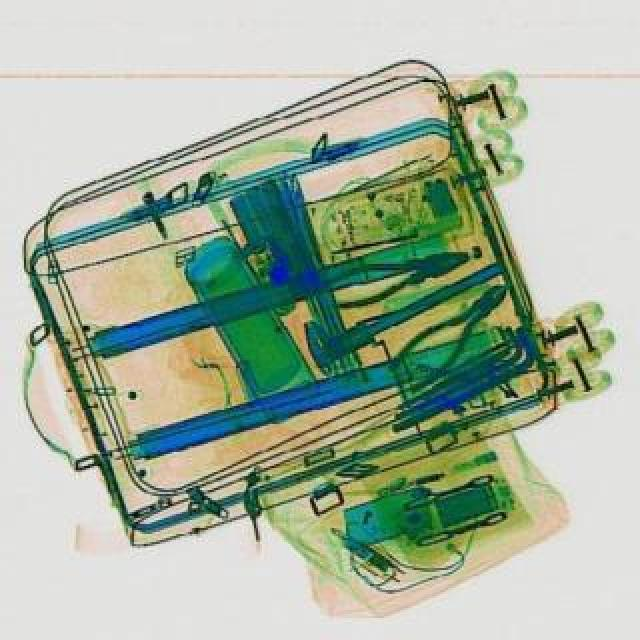wrench: (380, 266, 524, 394), (314, 236, 474, 314)
